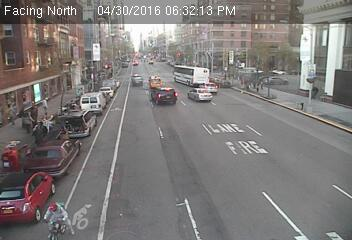neg: (39, 195, 72, 239)
pos: (37, 95, 54, 119)
